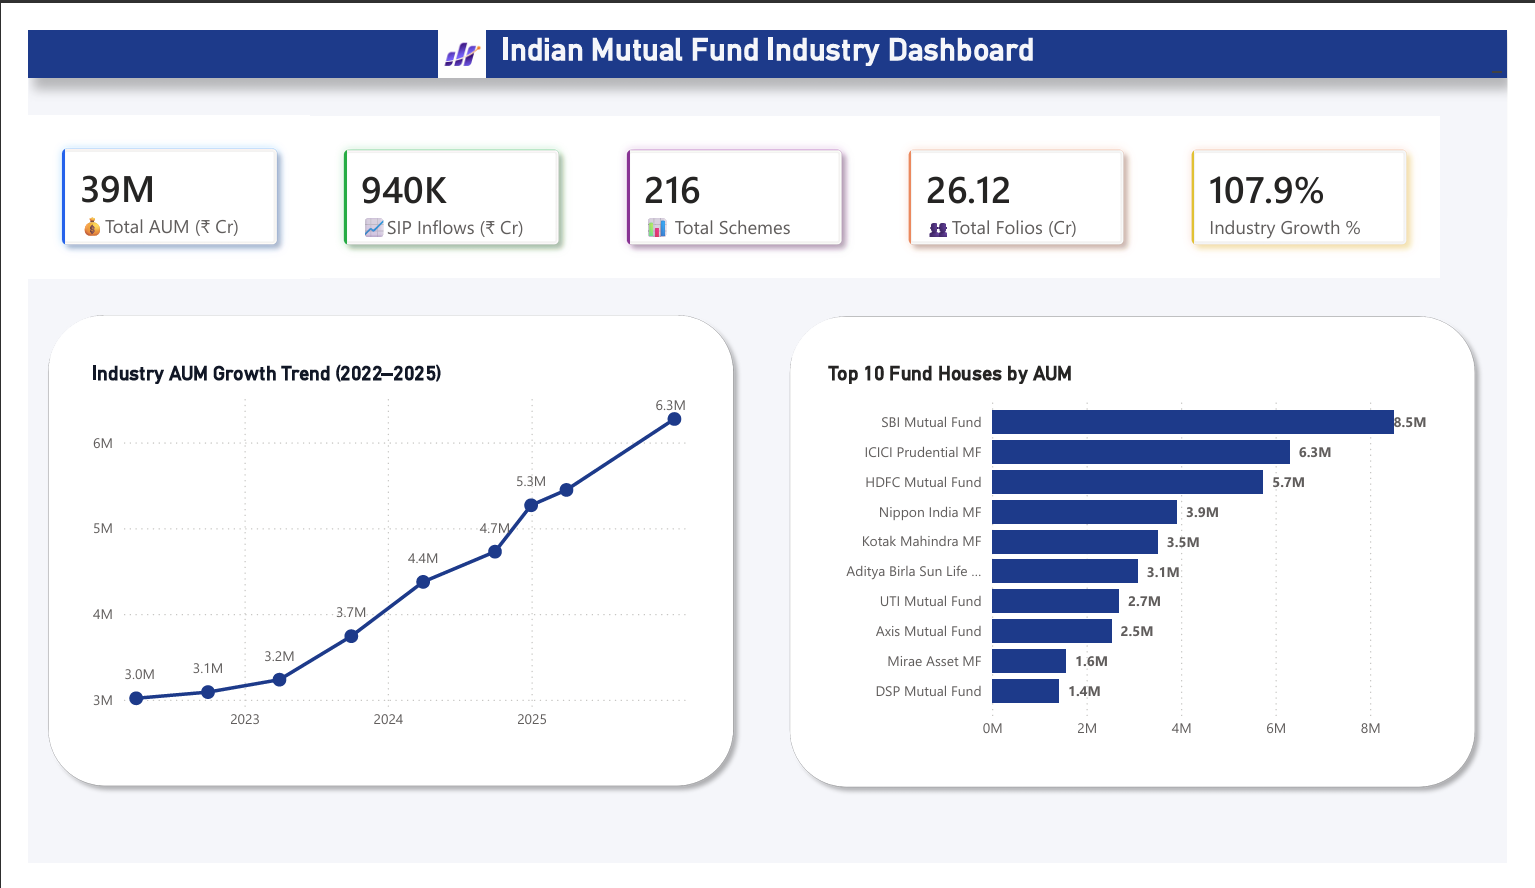

The page's visual inventory and layout, read from the dashboard file:
{"tool":"powerbi","page":{"name":"Industry Overview","canvas":[1280,720],"ordinal":0},"visuals":[{"type":"cardVisual","fields":{"Data":["Max(06_industry_folio_count_cleaned.total_folios_crore)"]},"box":[733.3,74.4,244.4,140],"z":0},{"type":"cardVisual","fields":{"Data":["Sum(03_aum_by_fund_house_cleaned.aum_crore)"]},"box":[0,73.3,244.4,141.1],"z":1000},{"type":"shape","box":[7.8,236.7,611.1,425.6],"z":2000},{"type":"lineChart","title":"Industry AUM Growth Trend (2022–2025)","fields":{"Y":["Sum(03_aum_by_fund_house_cleaned.aum_crore)"],"Category":["03_aum_by_fund_house_cleaned.date"]},"box":[50,285.6,526.7,327.8],"z":3000},{"type":"shape","box":[650,237.8,611.1,425.6],"z":4000},{"type":"clusteredBarChart","title":"Top 10 Fund Houses by AUM","fields":{"Category":["03_aum_by_fund_house_cleaned.fund_house"],"Y":["Sum(03_aum_by_fund_house_cleaned.aum_crore)"]},"box":[686.7,285.6,537.8,335.6],"z":5000},{"type":"textbox","title":"Indian Mutual Fund Industry Dashboard","box":[0,0,1280,41.1],"z":6000},{"type":"cardVisual","fields":{"Data":["Sum(04_monthly_sip_inflows_cleaned.sip_inflow_crore)"]},"box":[244.4,74.4,244.4,140],"z":7000},{"type":"cardVisual","fields":{"Data":["Max(03_aum_by_fund_house_cleaned.num_schemes)"]},"box":[488.9,74.4,244.4,140],"z":8000},{"type":"cardVisual","fields":{"Data":["01_fund_master_cleaned.AUM Growth %"]},"box":[977.8,74.4,244.4,140],"z":9000},{"type":"image","box":[336,0,78,41],"z":10000}]}

Visuals, with their boxes in screenshot pixels (x1, y1, x2, y2), scaled from the page's 1280x720 canvas onto the 1535x888 screenshot:
cardVisual - Max(06_industry_folio_count_cleaned.total_folios_crore): box=[879, 92, 1172, 264]
cardVisual - Sum(03_aum_by_fund_house_cleaned.aum_crore): box=[0, 90, 293, 264]
shape: box=[9, 292, 742, 817]
"Industry AUM Growth Trend (2022–2025)" lineChart: box=[60, 352, 692, 757]
shape: box=[779, 293, 1512, 818]
"Top 10 Fund Houses by AUM" clusteredBarChart: box=[824, 352, 1468, 766]
"Indian Mutual Fund Industry Dashboard" textbox: box=[0, 0, 1534, 51]
cardVisual - Sum(04_monthly_sip_inflows_cleaned.sip_inflow_crore): box=[293, 92, 586, 264]
cardVisual - Max(03_aum_by_fund_house_cleaned.num_schemes): box=[586, 92, 879, 264]
cardVisual - 01_fund_master_cleaned.AUM Growth %: box=[1173, 92, 1466, 264]
image: box=[403, 0, 496, 51]
